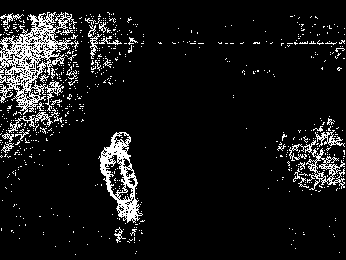person: (99, 131, 143, 241)
